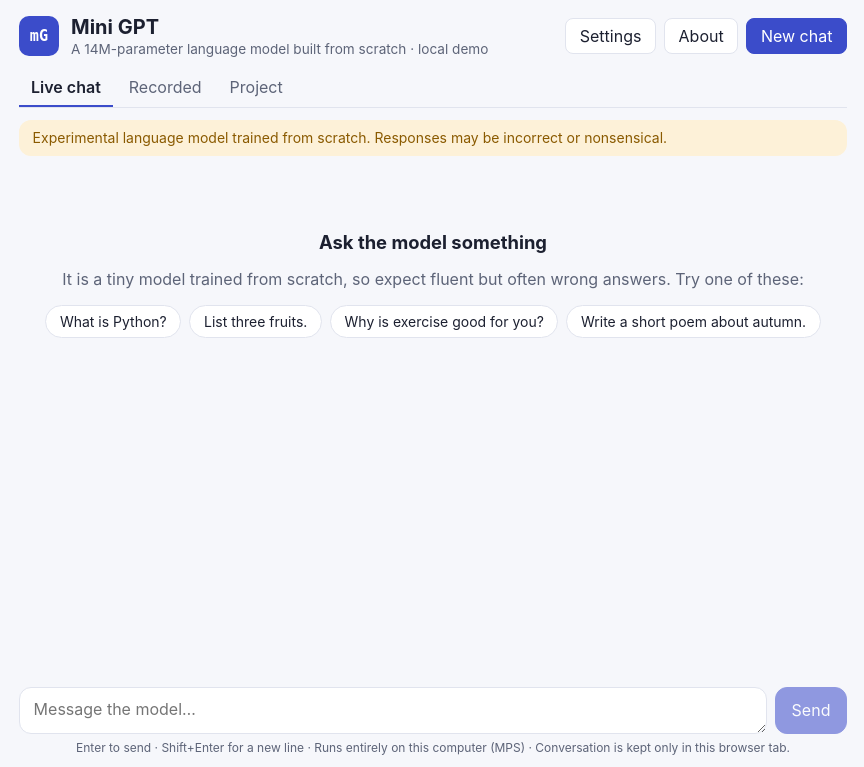
Test: App › shows server errors, keeps the draft and marks the message unanswered
Type "bad request" into the text box labelled "Message" at [393, 710], box [19, 687, 767, 734]
Then press Enter
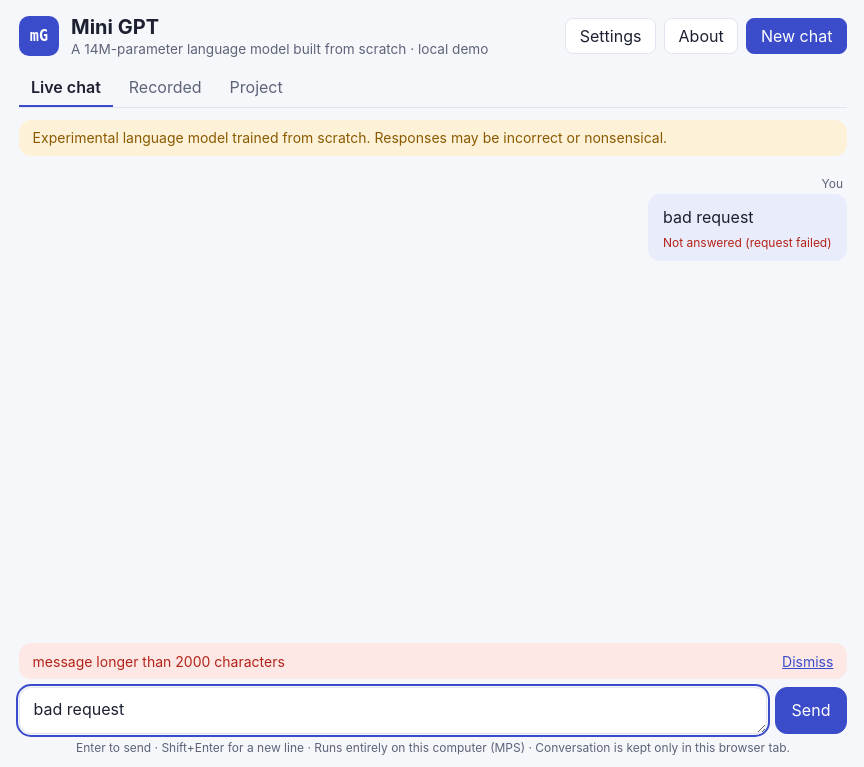
Expected: the message shows "message longer than 2000 characters", [33, 653, 285, 670]
Expected: the text "Not answered (request failed)" is shown, [663, 235, 832, 250]
